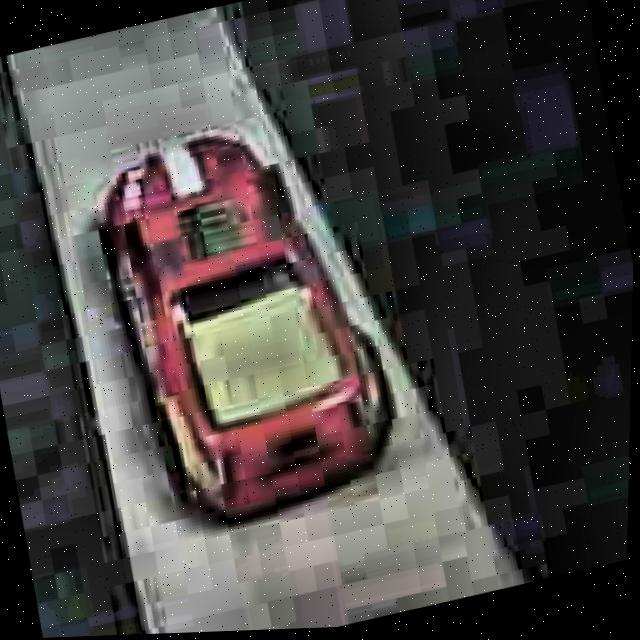car: (70, 95, 420, 556)
